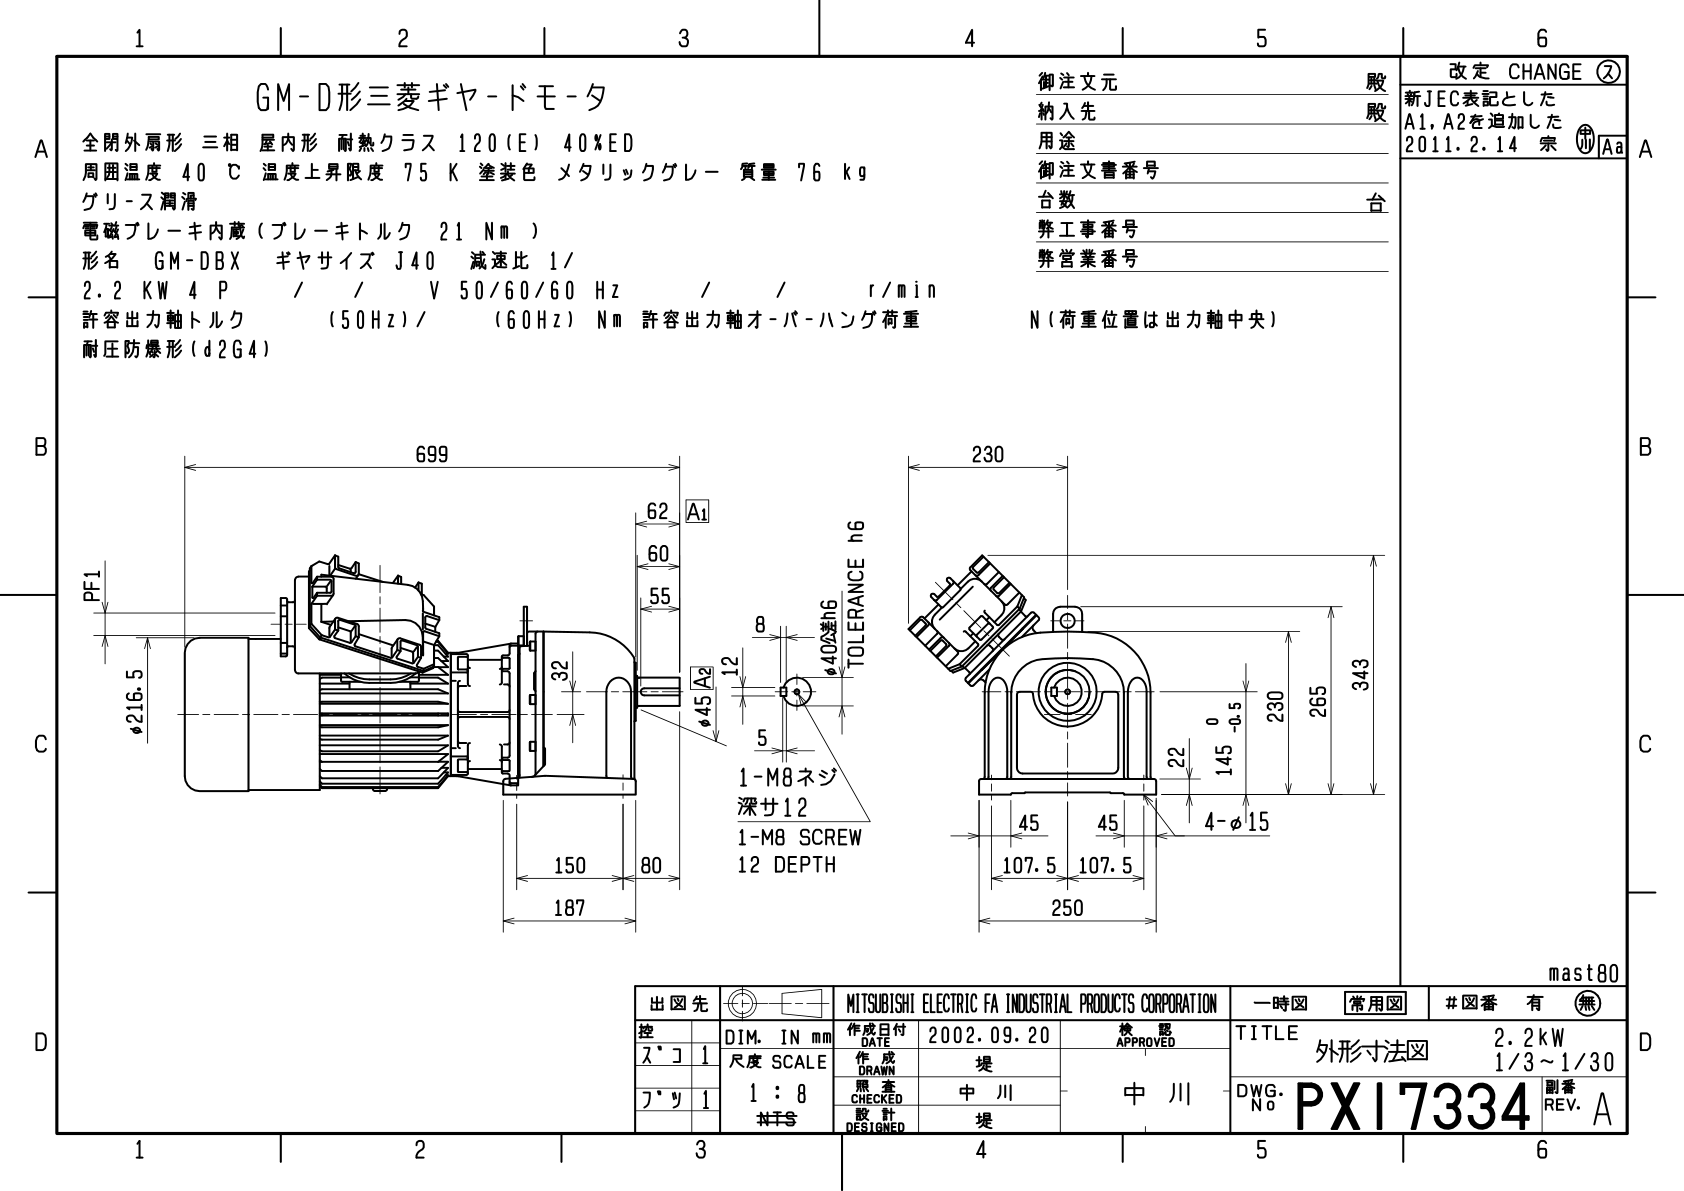GM_D_耐圧屋内_三相_脚: (70, 392, 1389, 945)
